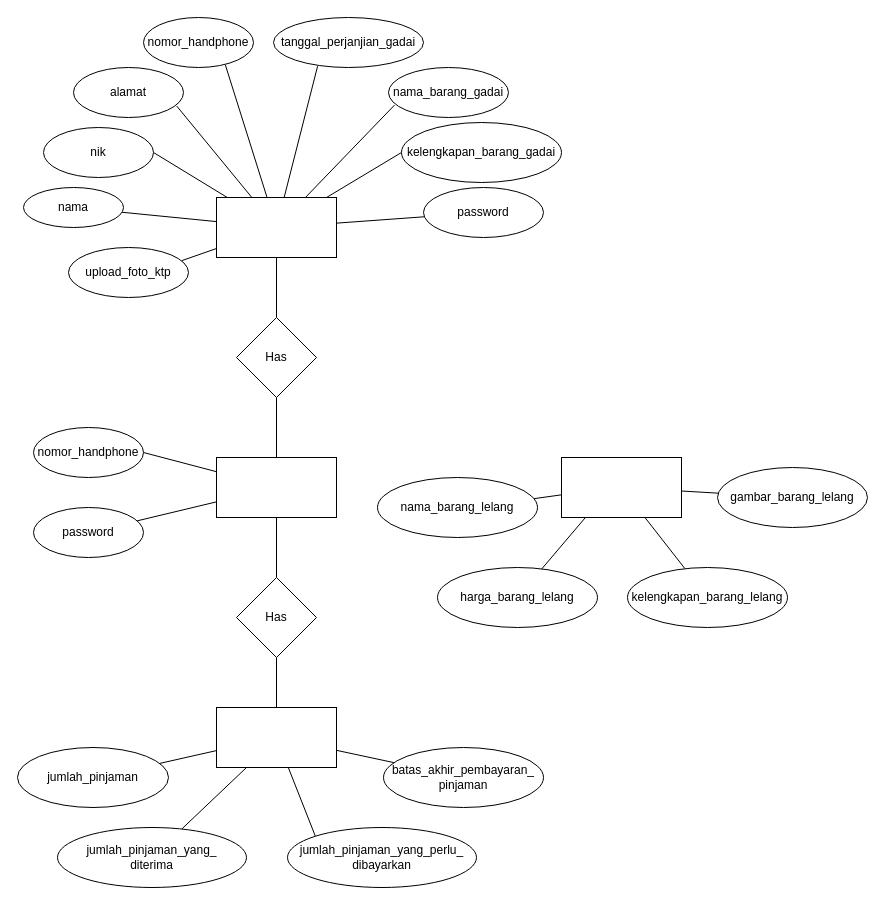
Some shapes in this 885 by 905 pixel diagram are drawn without their labels. Each missing label, with the centre of its shape:
"ModelBarangLelang" goes at point 621,487.
"ModelDataPelanggan" goes at point 276,227.
"ModelDataTransaksi" goes at point 276,737.
"User" goes at point 276,487.
